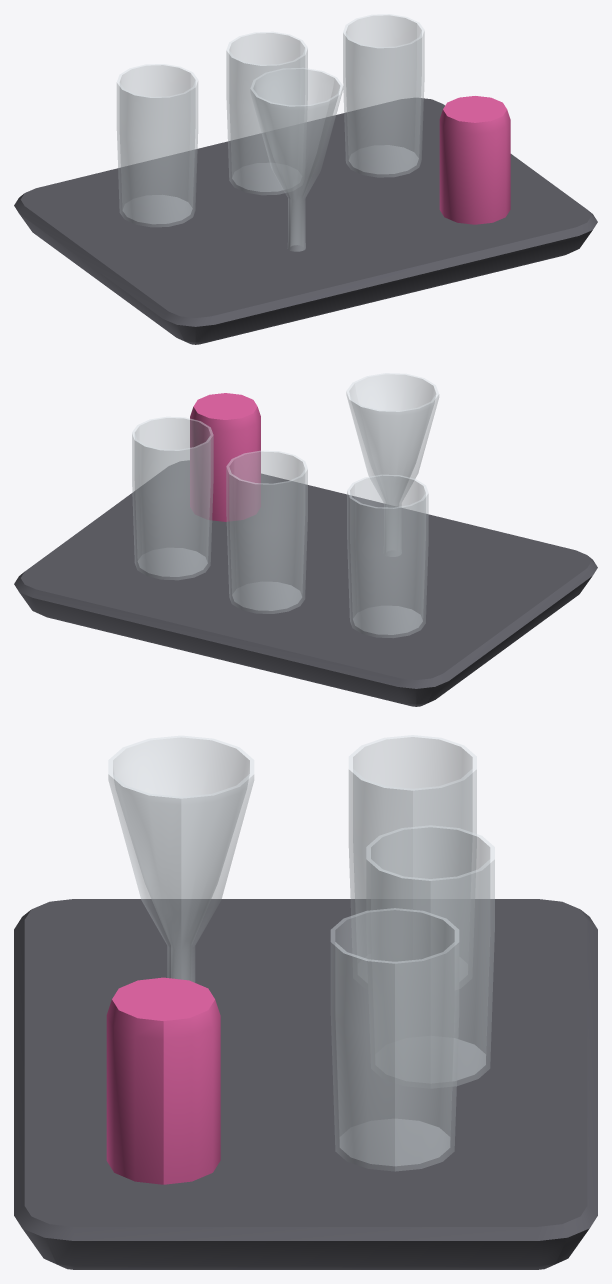
Rendered from bowling-alley-and-pool-hall-drinks-tray-ee62e2d6__33872.glb.
3 views of the same model, one above another, from view 1: azimuth 30°, elevation 25°; view 2: azimuth 150°, elevation 25°; view 3: azimuth 270°, elevation 25° (orthographic). The views are drawn at different scales.
Visible parts, largest first — view 1: drinks-tray; view 2: drinks-tray; view 3: drinks-tray.
Part boxes in pixels (box(x1,y1,x2,y2)): drinks-tray: box(14, 14, 597, 344); drinks-tray: box(14, 373, 597, 706); drinks-tray: box(14, 735, 597, 1269).
Bounding box in the file's own units: 0.448 × 0.196 × 0.328.
